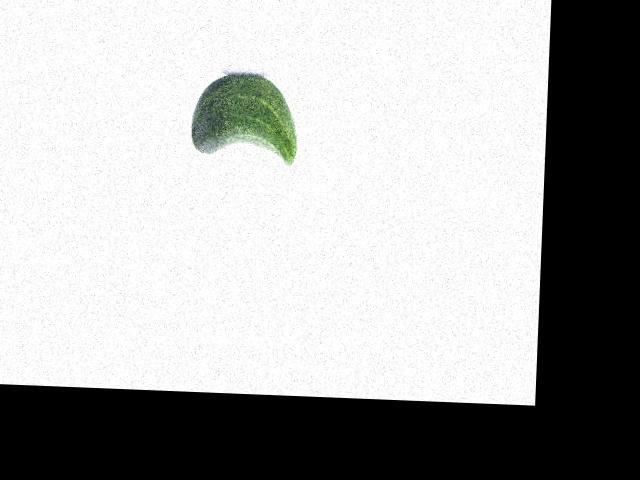cucumber: (190, 72, 300, 165)
